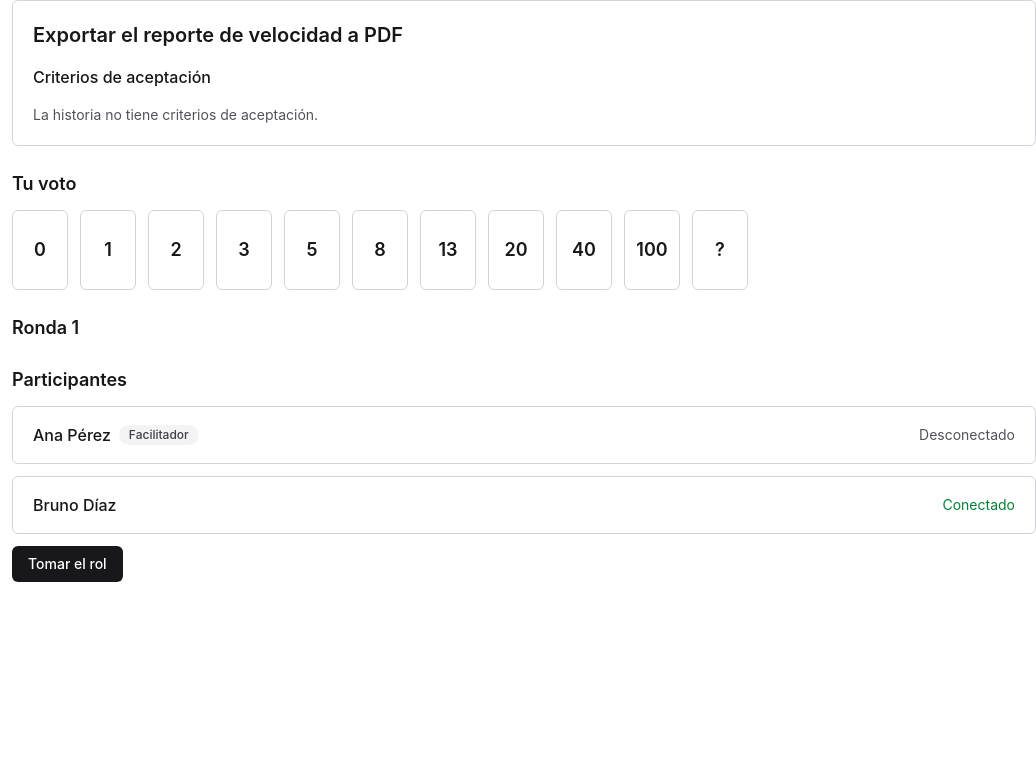
Test: 005/US6 - Sobrevivir a las desconexiones y relevar al facilitador › Facilitador presente
expect the heading "Participantes" is shown: met, box [12, 369, 127, 390]
Click the button "Tomar el rol".
click(67, 564)  # box [12, 546, 123, 582]
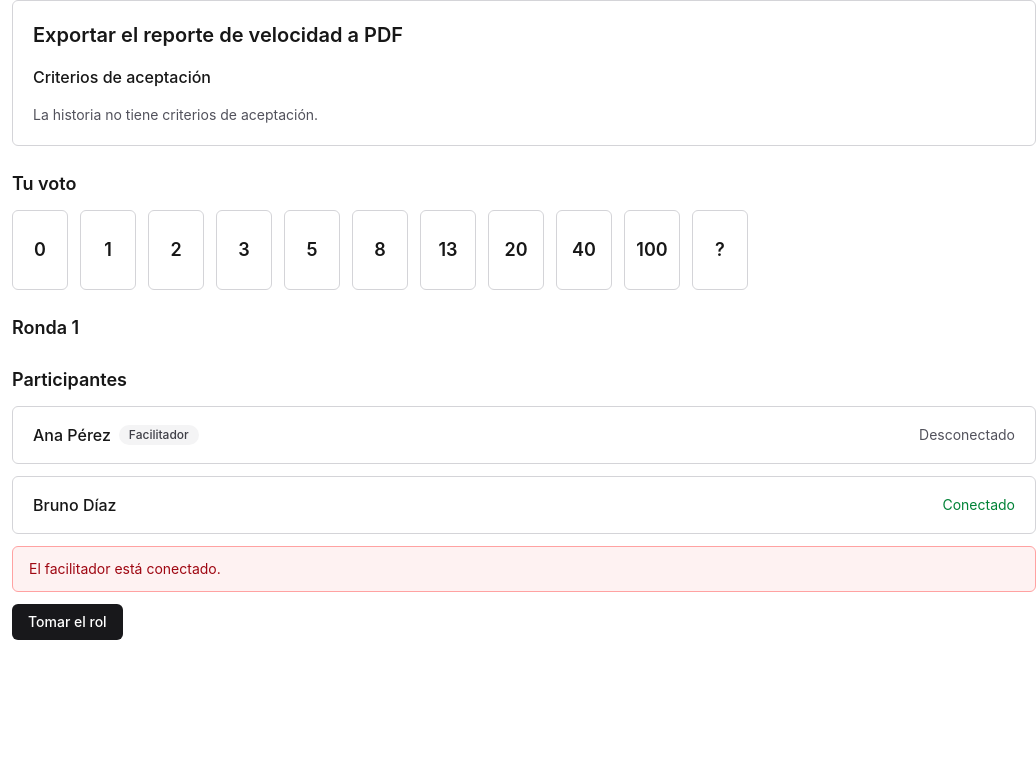
expect the message reads "El facilitador está conectado.": met, box [29, 560, 221, 577]
